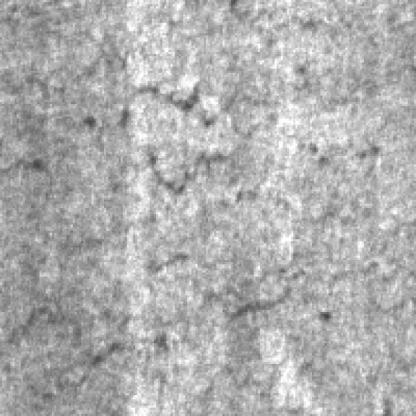crazing: (75, 62, 374, 206), (0, 272, 189, 404)
